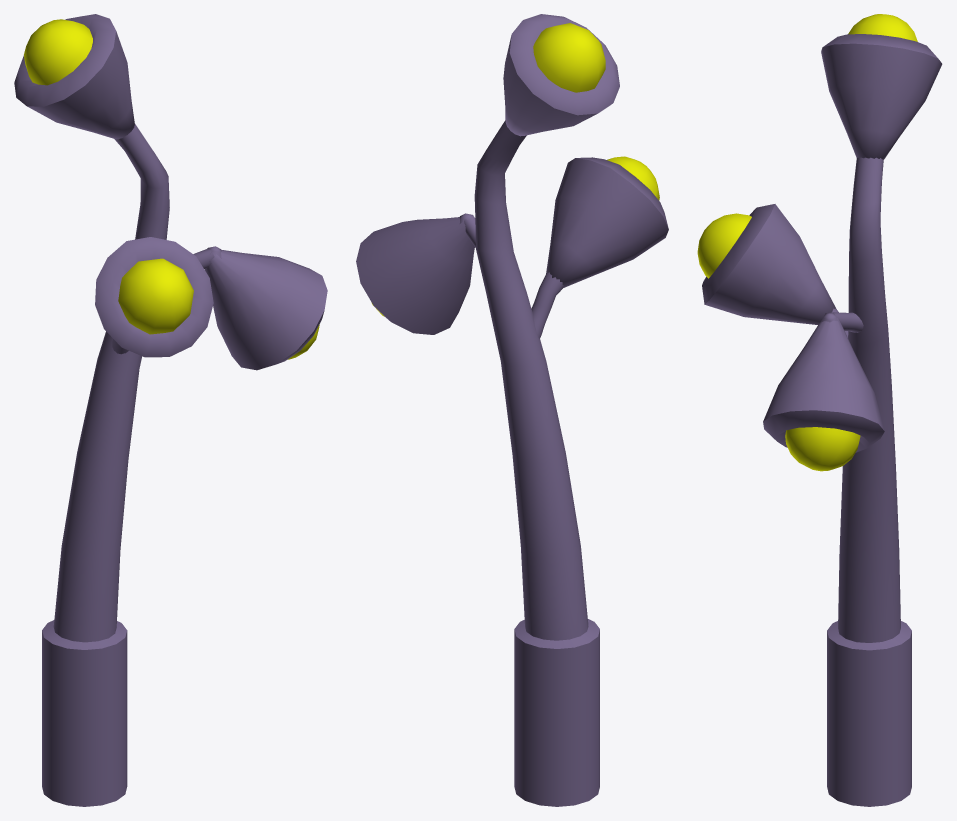
The model's file is AlienLampmetal.fbx.
3 renders of one model, left to right at view 1: azimuth 30°, elevation 25°; view 2: azimuth 150°, elevation 25°; view 3: azimuth 270°, elevation 25°, orthographic.
Parts seen in each view (by area): view 1: LampMetal; view 2: LampMetal; view 3: LampMetal.
Boxes of the visible parts, x1,y1,x2,y2 form: LampMetal: [14, 14, 327, 806]; LampMetal: [356, 14, 668, 806]; LampMetal: [697, 14, 942, 806].
Size of the model in its own units: 2.74 by 7.5 by 2.18.
